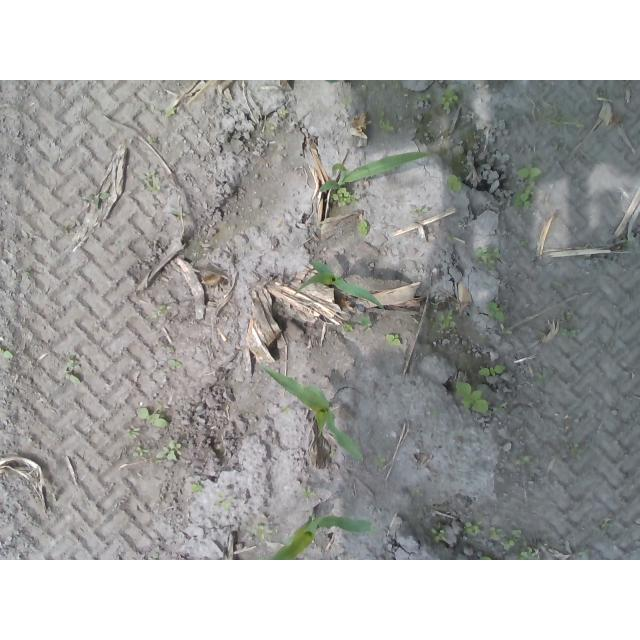Maize: (268, 361, 371, 467), (309, 148, 427, 193), (299, 257, 387, 311)
Weeds: (115, 390, 185, 471)
